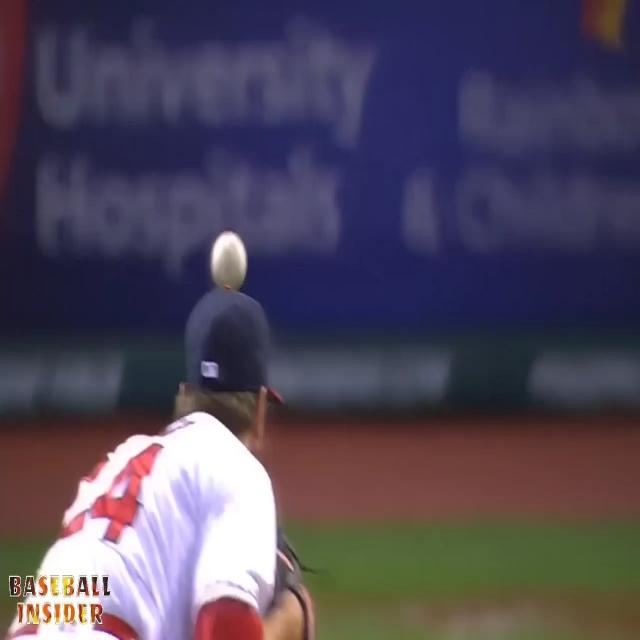baseball: (210, 231, 247, 290)
